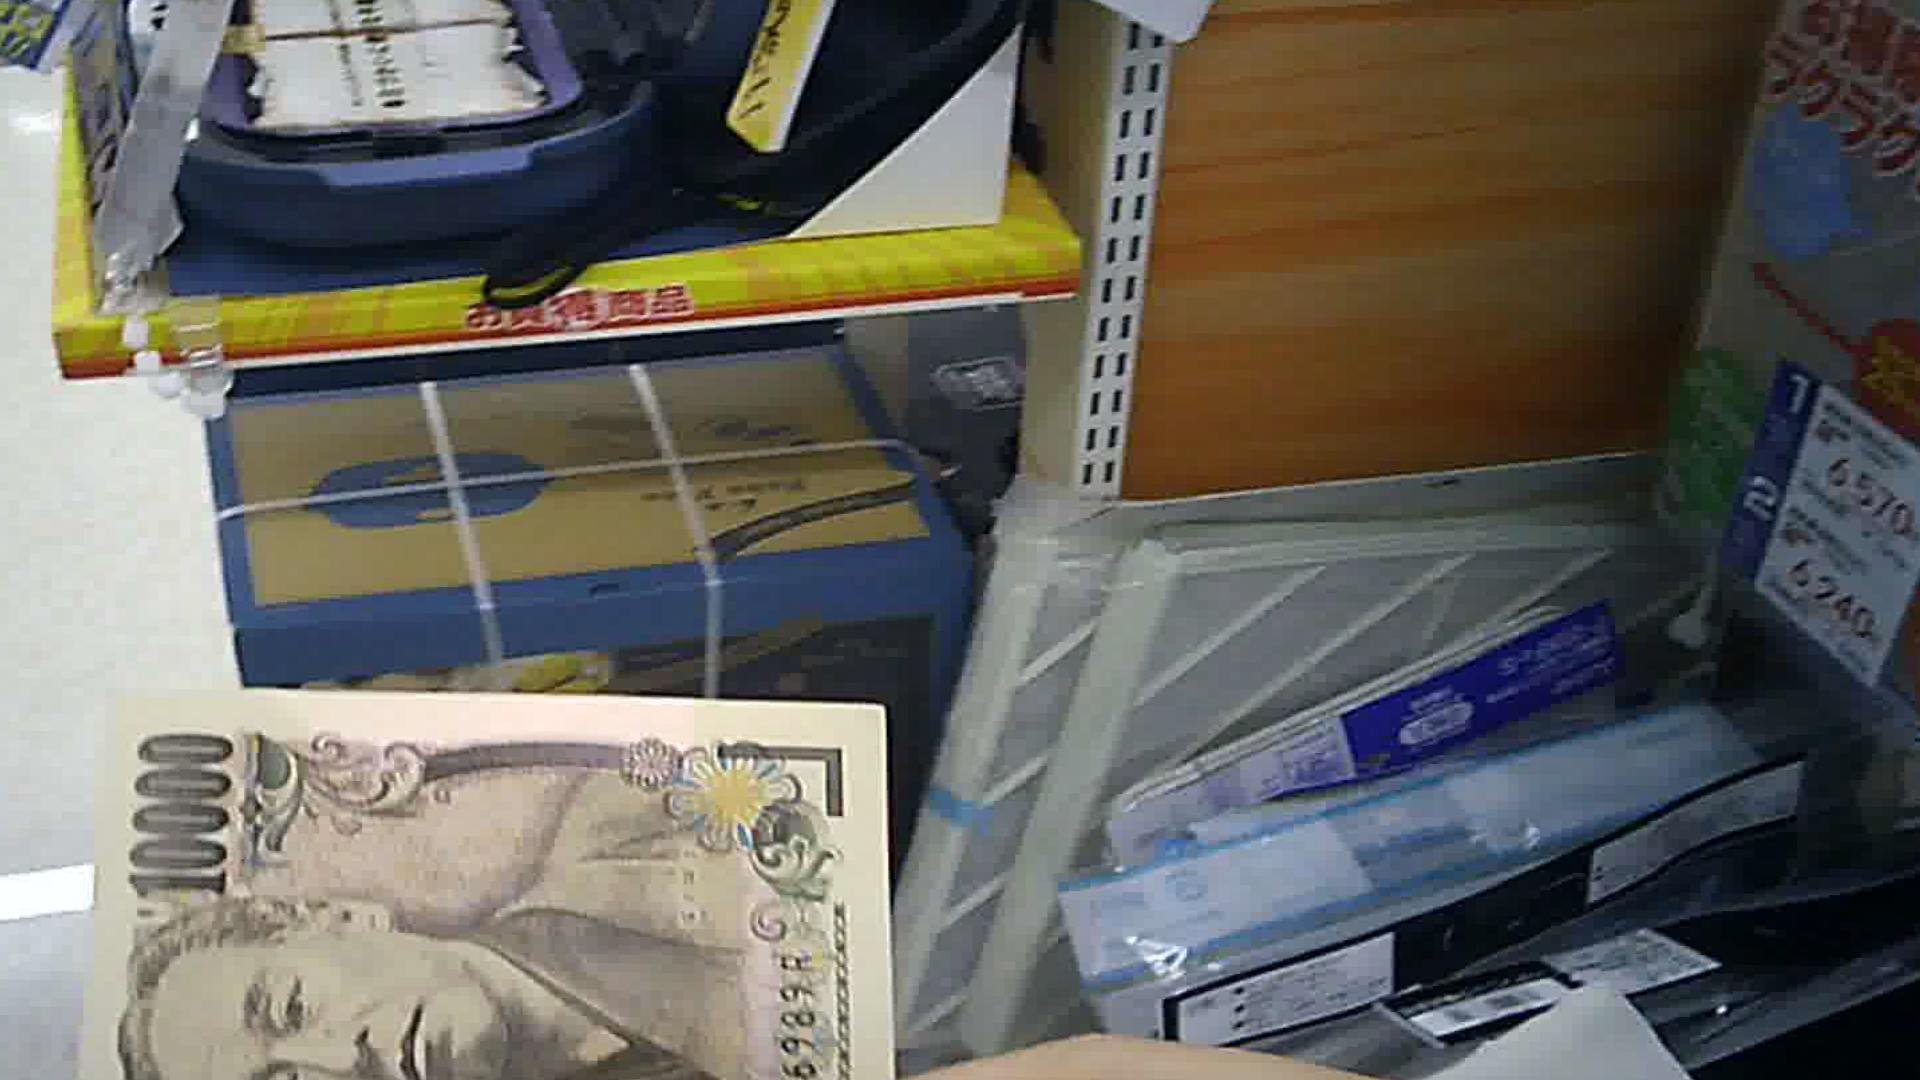10,000 Yen: (55, 675, 887, 1079)
